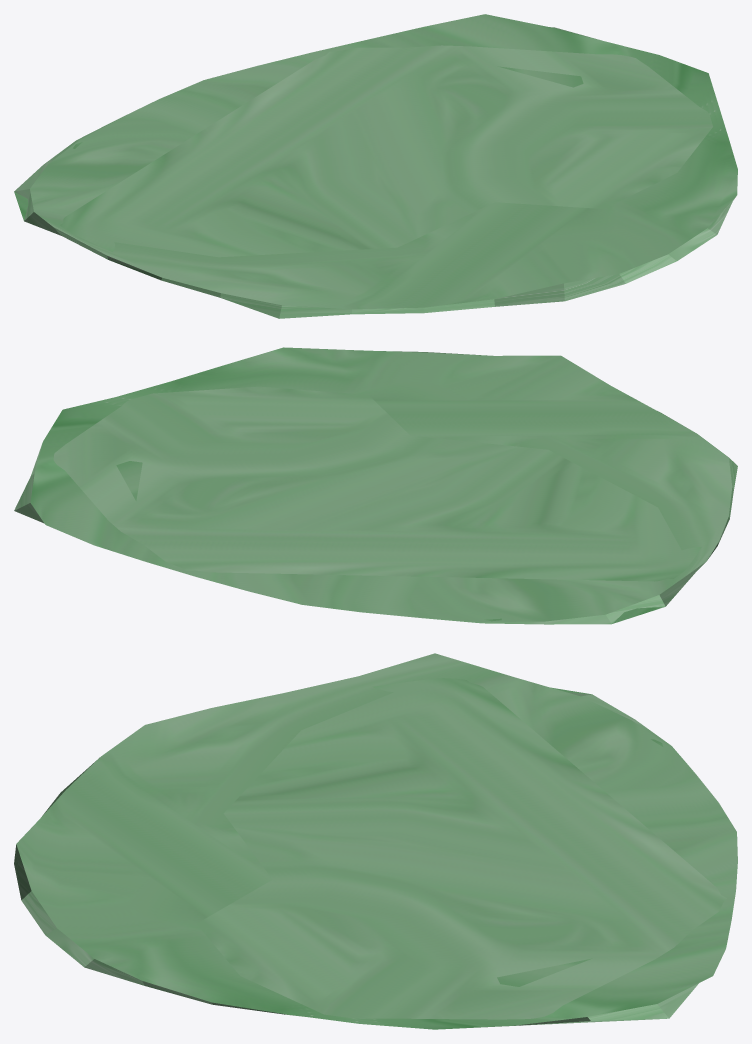
Rendered from acidpool.glb.
3 renders of one model, top to bottom at view 1: azimuth 30°, elevation 25°; view 2: azimuth 150°, elevation 25°; view 3: azimuth 270°, elevation 25°, orthographic. The views are drawn at different scales.
Visible parts, largest first — view 1: Cylinder; view 2: Cylinder; view 3: Cylinder.
Part boxes in pixels (left/top/right/bottom): Cylinder: left=14, top=14, right=737, bottom=318; Cylinder: left=14, top=347, right=737, bottom=624; Cylinder: left=14, top=653, right=737, bottom=1029.
Size of the model in its own units: 6.24 by 0.1991 by 5.17.
Materials: 1 (1 with a texture image).
